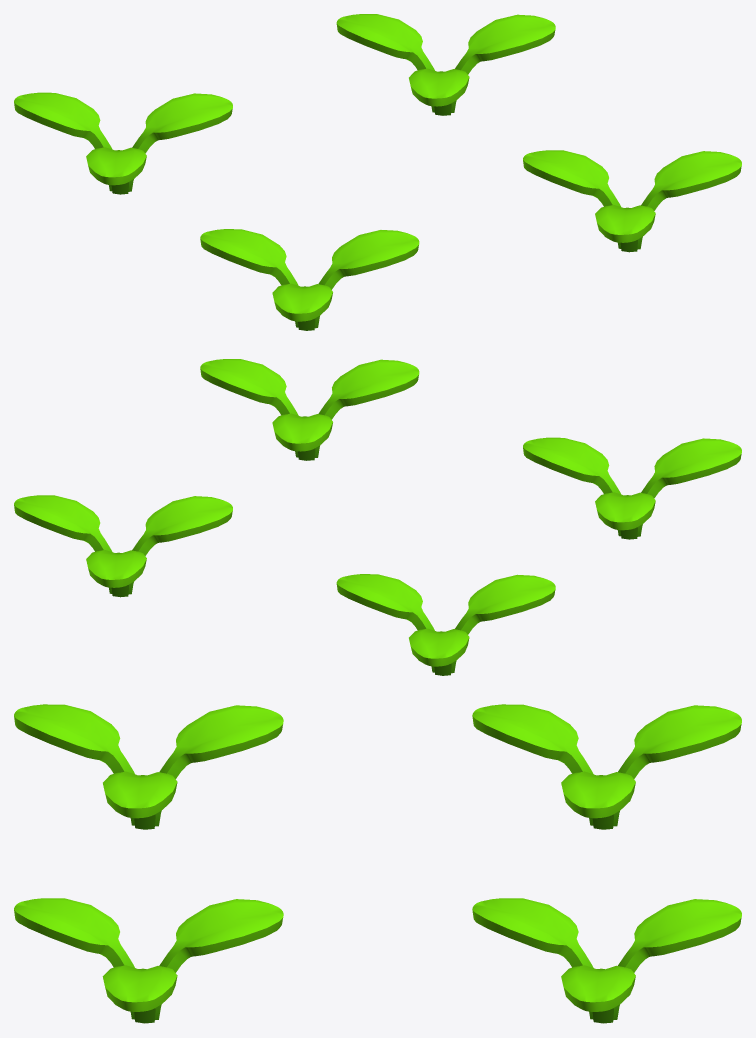
File: Farm_Crop_Cauliflower_Step_01.glb
3 views of the same model, one above another, from view 1: azimuth 30°, elevation 25°; view 2: azimuth 150°, elevation 25°; view 3: azimuth 270°, elevation 25° (orthographic). The views are drawn at different scales.
Visible parts, largest first — view 1: Farm_Crop_Cauliflower_Step_01; view 2: Farm_Crop_Cauliflower_Step_01; view 3: Farm_Crop_Cauliflower_Step_01.
Part boxes in pixels (x1,y1,x2,y2): Farm_Crop_Cauliflower_Step_01: [14, 14, 741, 330]; Farm_Crop_Cauliflower_Step_01: [14, 359, 741, 675]; Farm_Crop_Cauliflower_Step_01: [14, 704, 741, 1023].
Bounding box in the file's own units: 1.54 × 0.2081 × 1.59.
1 material, 1 textured.
